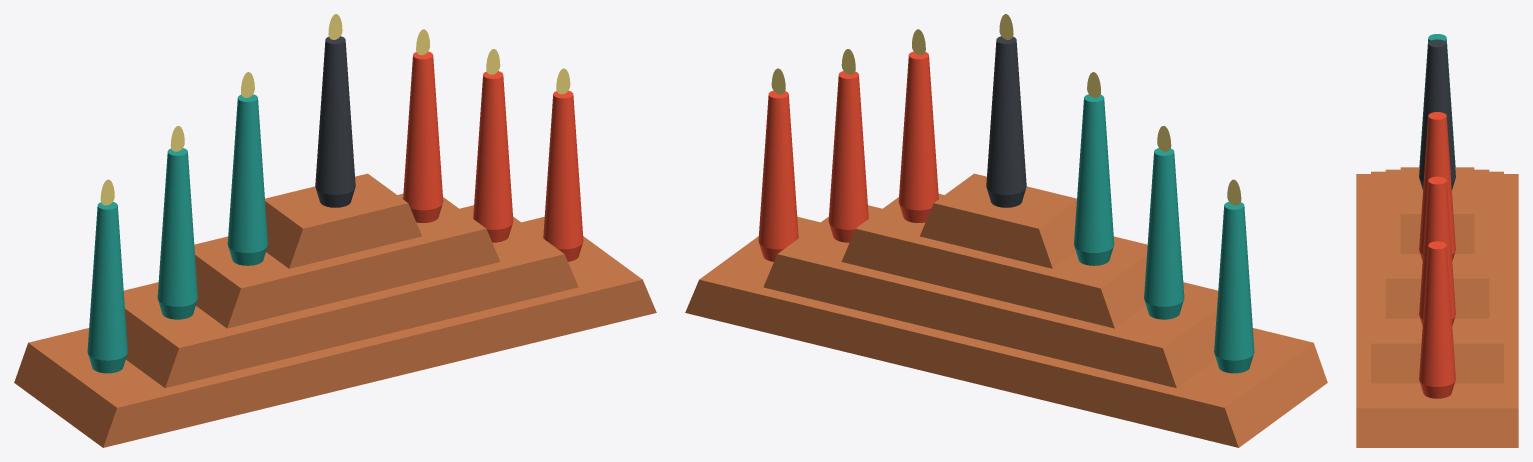
Rendered from kwanzaaKinaraAlternative.dae.
The picture shows the model from 3 angles, left to right: view 1: azimuth 30°, elevation 25°; view 2: azimuth 150°, elevation 25°; view 3: azimuth 270°, elevation 25°; orthographic projection. The views are drawn at different scales.
Visible parts, largest first — view 1: kwanzaaKinaraAlternative; view 2: kwanzaaKinaraAlternative; view 3: kwanzaaKinaraAlternative.
Boxes of the visible parts, x1,y1,x2,y2 form: kwanzaaKinaraAlternative: (14, 14, 656, 447); kwanzaaKinaraAlternative: (685, 14, 1327, 447); kwanzaaKinaraAlternative: (1356, 34, 1518, 447).
Bounding box in the file's own units: 0.395 × 0.2276 × 0.11.
